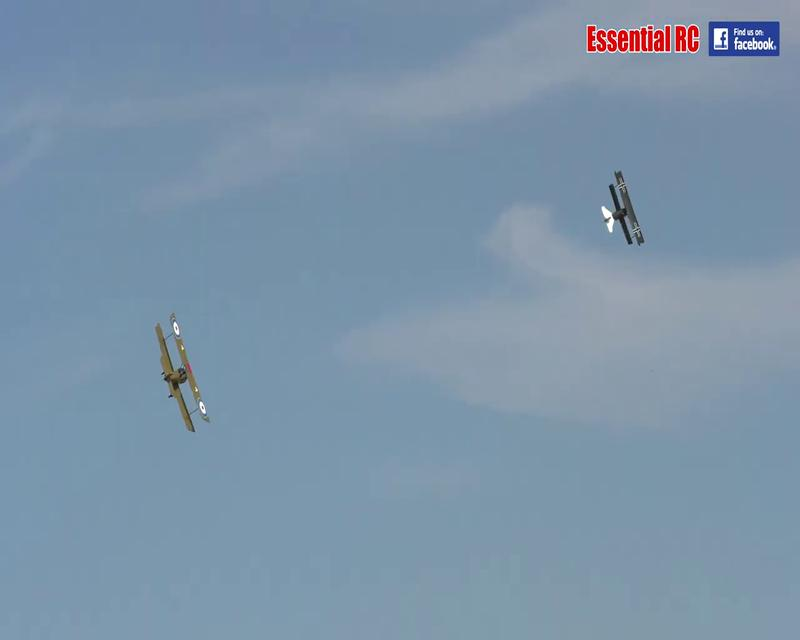UAV: (154, 313, 211, 431), (600, 168, 644, 246)
